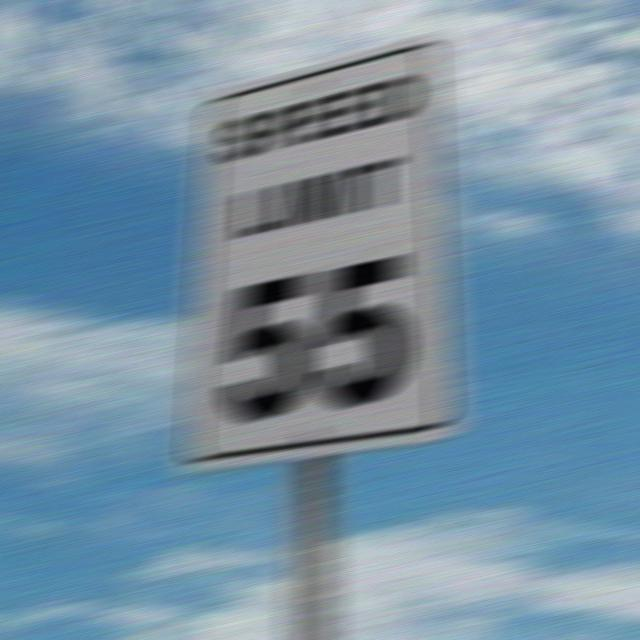speedLimit55: (179, 85, 464, 445)
